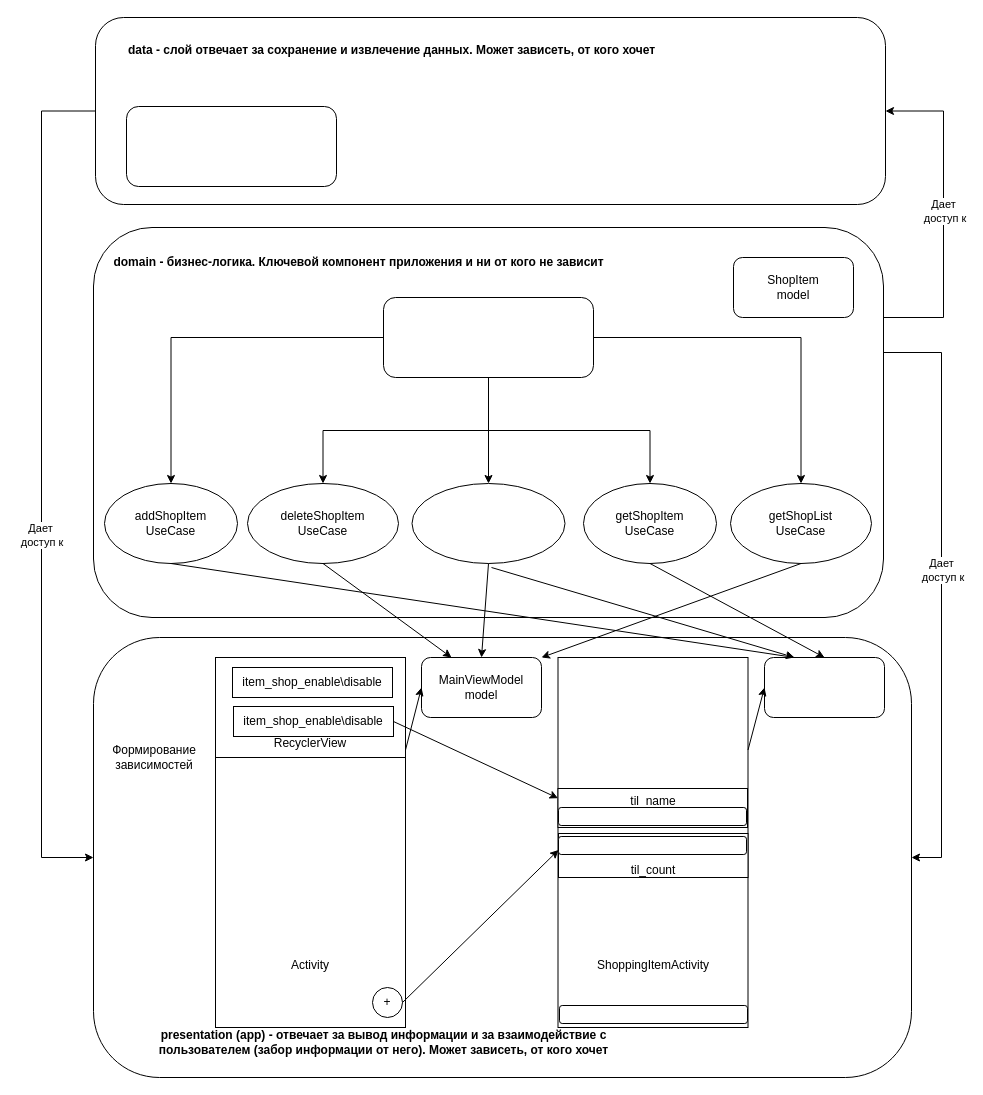
The diagram is 983 pixels wide and 1095 high, and some of its shapes have lost their labels. Here are the shapes that lost their labels. From the top down, the centre of each, then its label:
At pixel 231 146: "ShopListRepositoryImpl Implementation".
At pixel 488 337: "ShopListRepository Interface".
At pixel 488 523: "editShopItem UseCase".
At pixel 824 687: "ShViewModel model".
At pixel 652 816: "et_name".
At pixel 652 845: "et_count".
At pixel 653 1014: "save_button".
